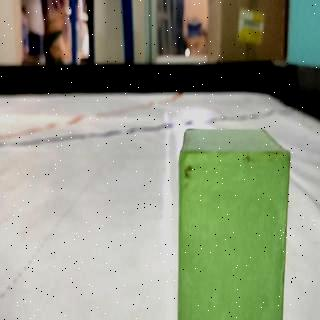greenbox: (176, 125, 292, 320)
